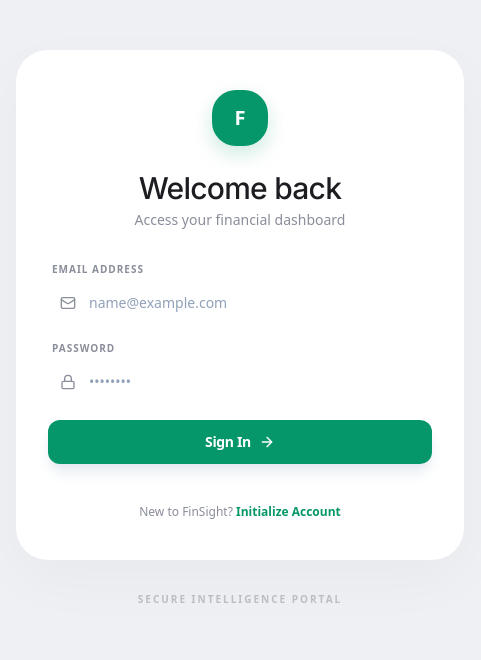
Login Component › shows error message on failed login
Step 1. Type "test@test.com" into the field with placeholder "name@example.com" → (240, 302), box [48,280,432,324]
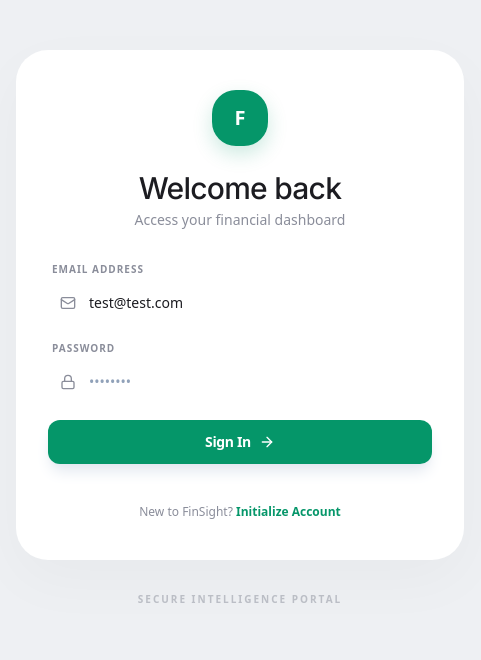
Step 2. Type "wrong" into the password field with placeholder "••••••••" → (240, 382), box [48,360,432,404]
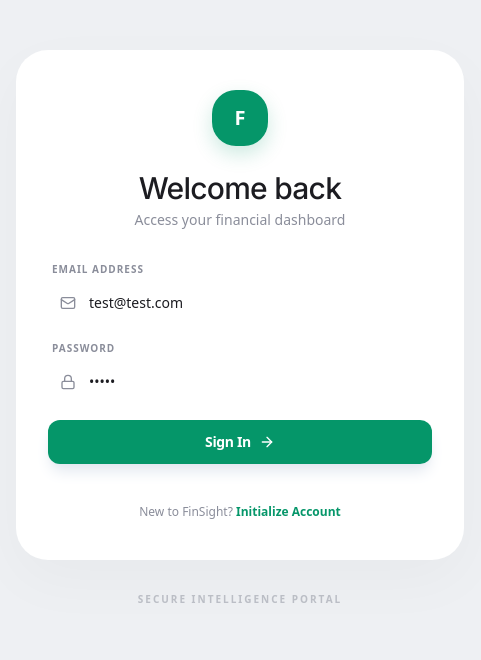
Step 3. Click the button "Sign In" → (240, 442), box [48,420,432,464]
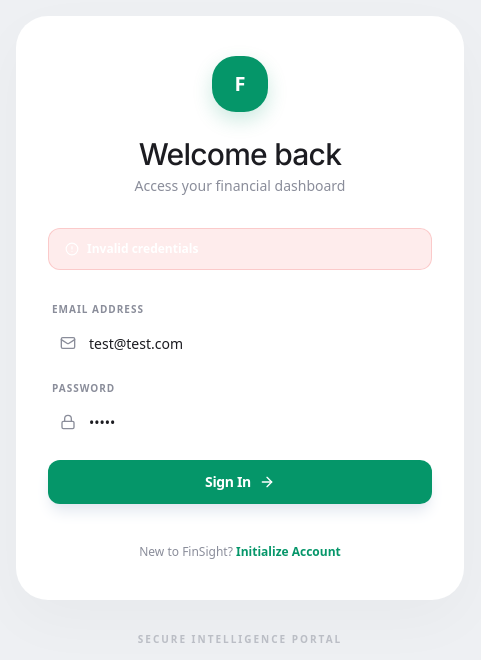
Expected: the text "Invalid credentials" is shown, [48,228,432,270]
